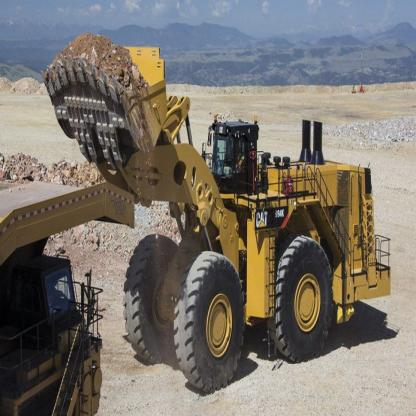bull_dozer/loader/grader: (43, 22, 395, 388)
